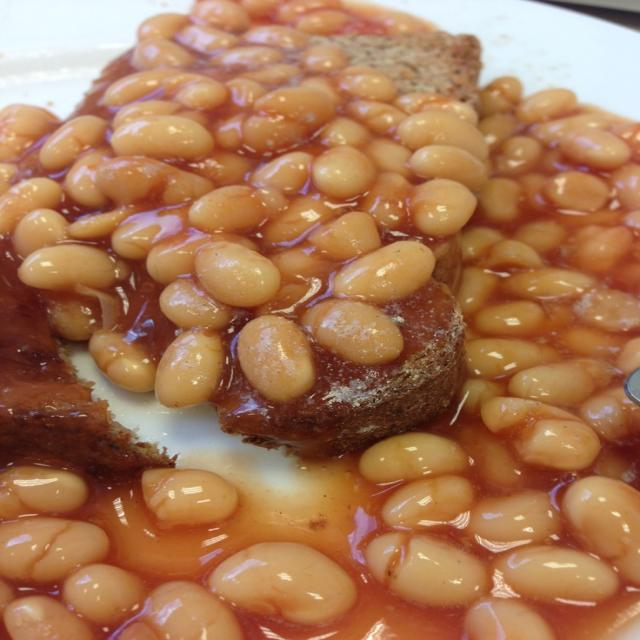beans: (208, 543, 356, 624), (366, 533, 489, 606), (562, 476, 639, 584), (0, 517, 109, 583), (494, 545, 619, 602), (238, 316, 316, 401), (303, 299, 404, 364), (334, 241, 435, 302), (142, 580, 243, 639), (195, 241, 280, 307), (467, 490, 560, 550), (359, 433, 468, 484), (154, 329, 225, 407), (142, 470, 238, 525), (62, 564, 145, 625), (381, 475, 474, 529), (508, 359, 613, 406), (189, 184, 288, 232), (0, 466, 88, 519), (19, 243, 118, 290), (397, 111, 488, 160), (111, 116, 214, 159), (515, 419, 600, 471), (89, 331, 157, 392), (3, 595, 93, 639), (409, 179, 477, 236), (39, 115, 107, 171), (465, 598, 556, 639), (160, 278, 233, 329), (408, 145, 488, 191), (467, 338, 557, 378), (309, 211, 381, 261), (0, 178, 62, 235), (311, 146, 375, 199), (0, 104, 57, 161), (503, 267, 595, 300), (559, 128, 631, 170), (575, 287, 639, 332), (543, 171, 609, 211), (13, 209, 68, 257), (251, 152, 313, 193), (474, 301, 545, 336), (334, 66, 396, 102), (516, 89, 577, 123), (132, 38, 193, 70), (193, 0, 250, 33)
